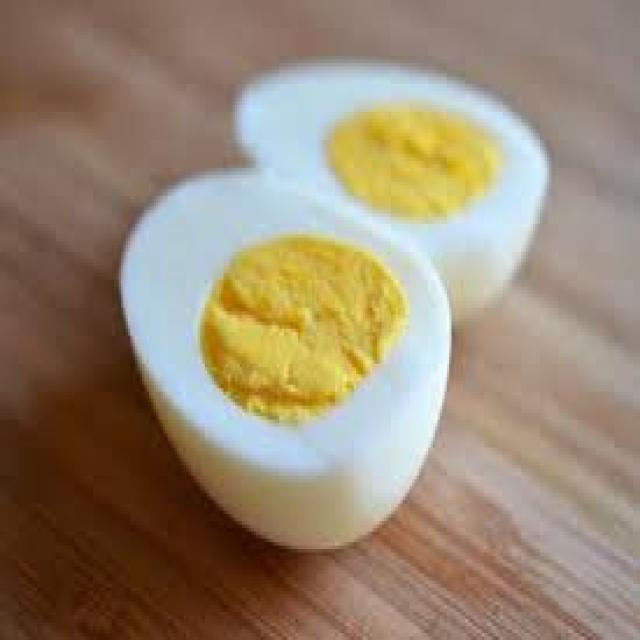boiled egg: (122, 172, 451, 549)
